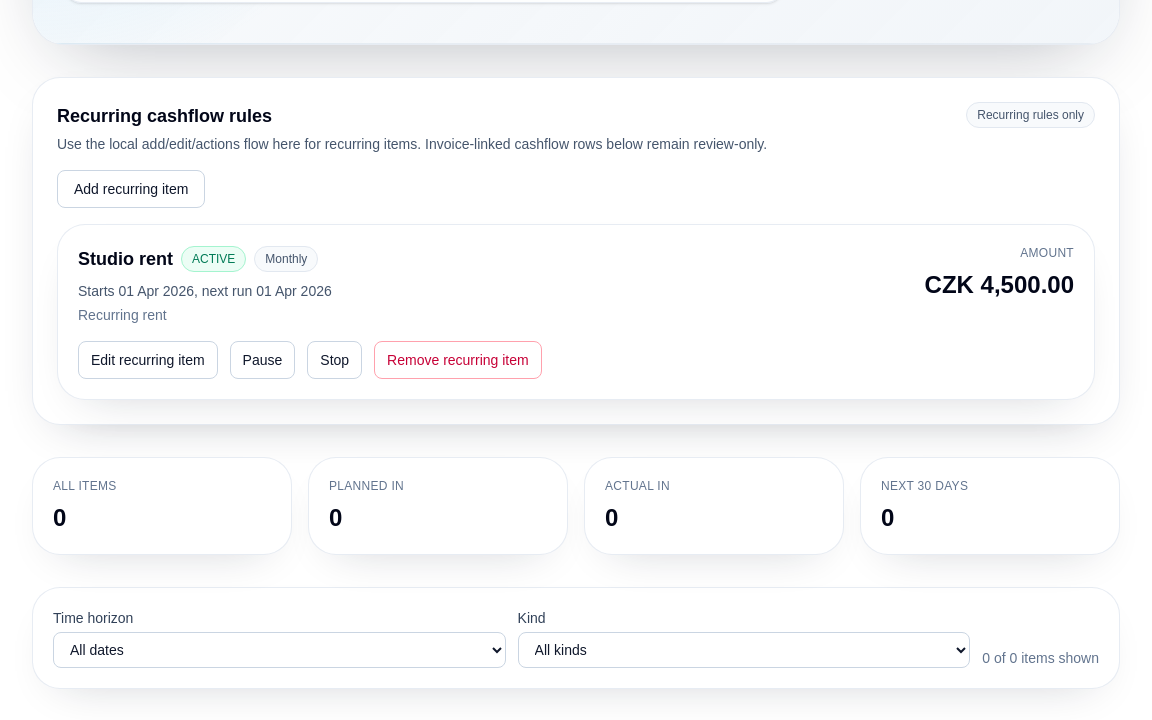
it: cashflow workspace v1 › shows a conflict-specific retry message when recurring rule update is out of date
The width and height of the screenshot is (1152, 720).
(page scrolled)
Expected: the heading "Studio rent" is shown, 78,245 -> 173,273
Click the button "Edit recurring item". click: (148, 360)
box: 78,341 -> 218,379
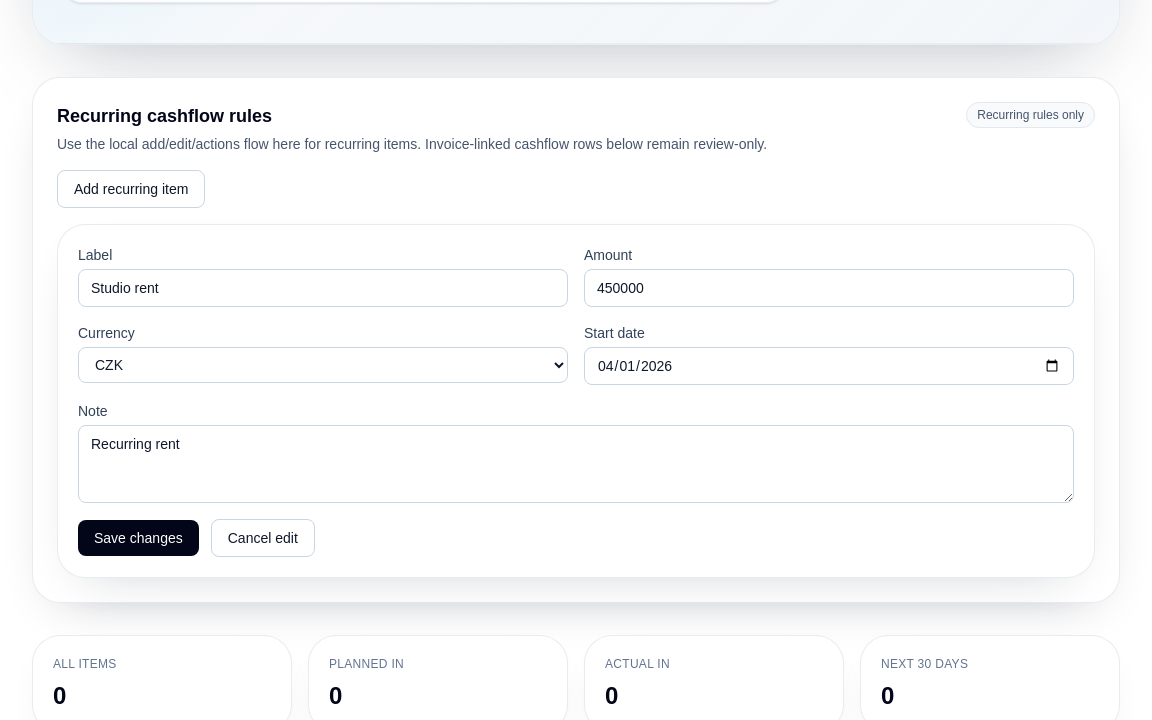
Replace the text in the field labelled "Label" with "Studio rent updated". click: (323, 288)
box: 78,269 -> 568,307
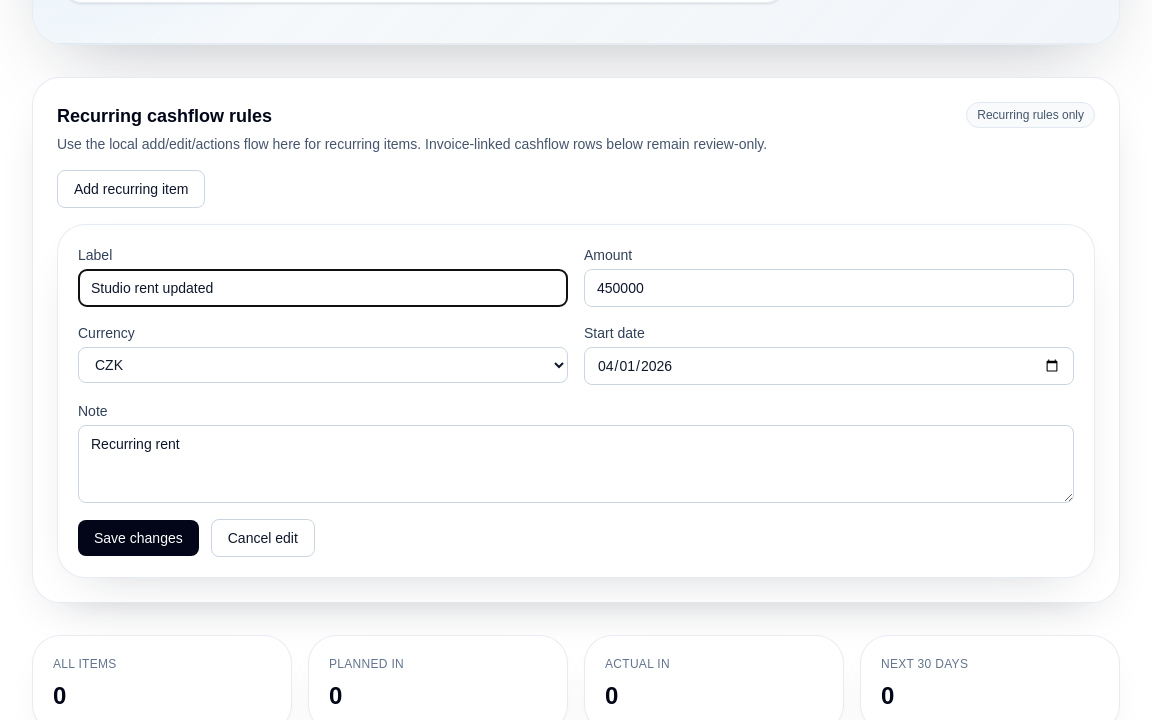
Click the button "Save changes". click: (138, 538)
box: 78,520 -> 199,556
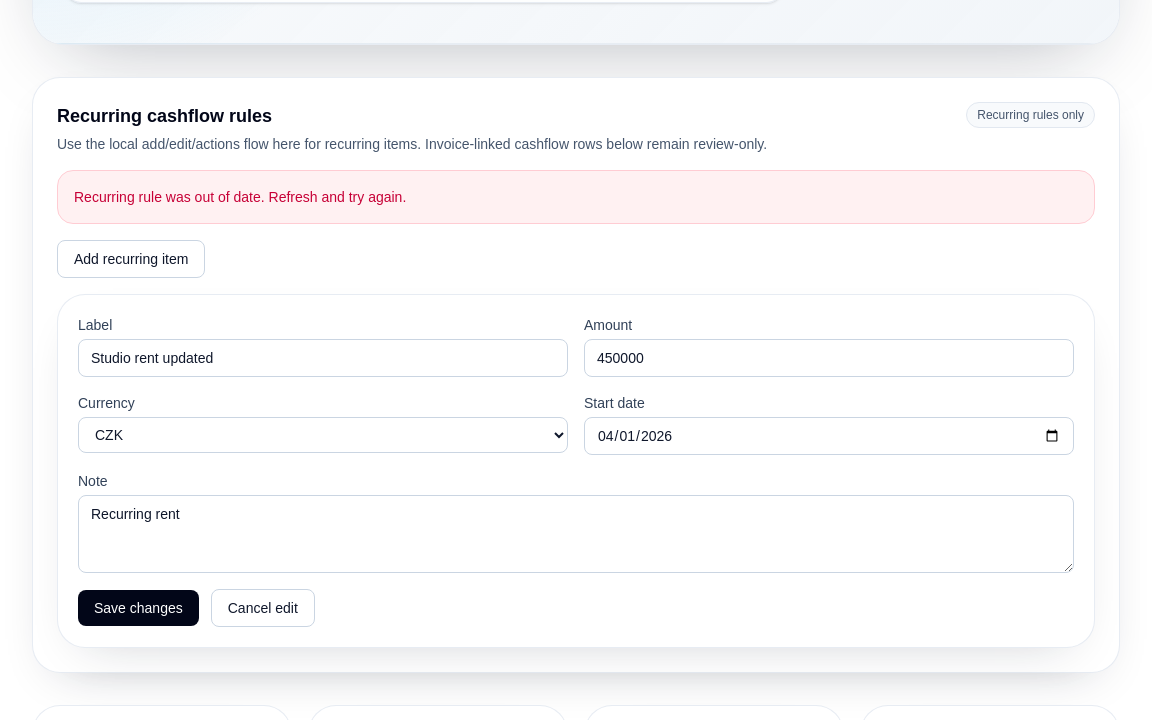
Expected: the text "Recurring rule was out of date. Refresh and try again." is shown, 57,170 -> 1095,224
